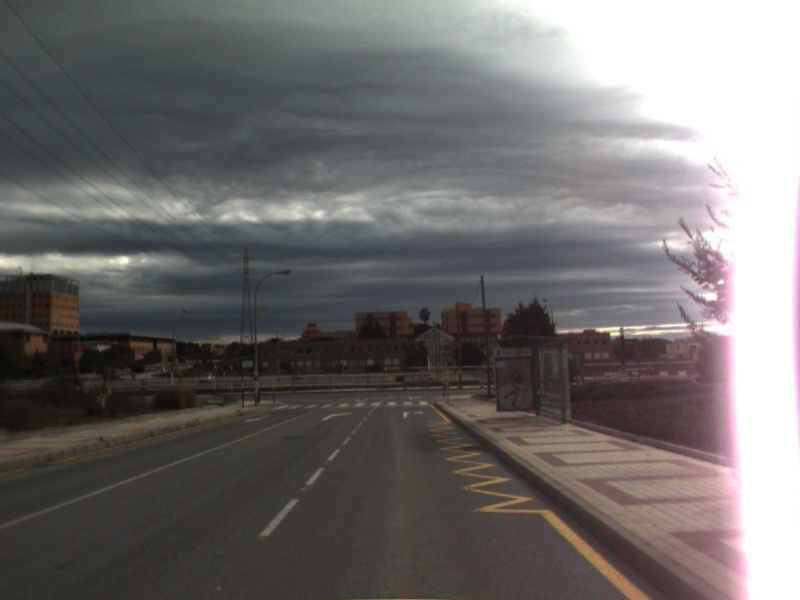RIGHT: (319, 409, 356, 423), (400, 408, 427, 421)
